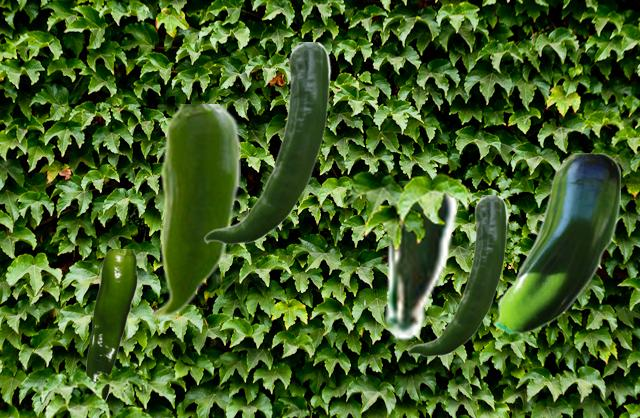green_chili: (203, 42, 330, 244), (492, 153, 619, 334), (148, 104, 239, 319), (407, 195, 507, 356), (380, 175, 458, 340), (85, 249, 136, 410)
